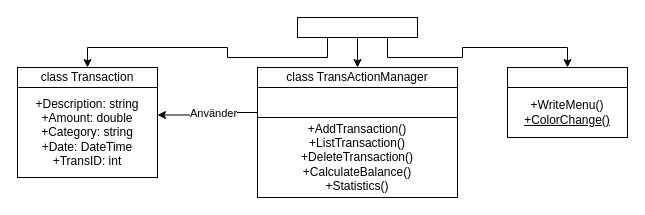
Image size: 645x215. Some labels were removed from this diagram. The centre of each missing label's shape, as x and y in pixels:
class Meny: the point at 567,77
List<Transaction> transactions = new List<Transaction>();: the point at 357,102
Transaction Program: the point at 357,27
